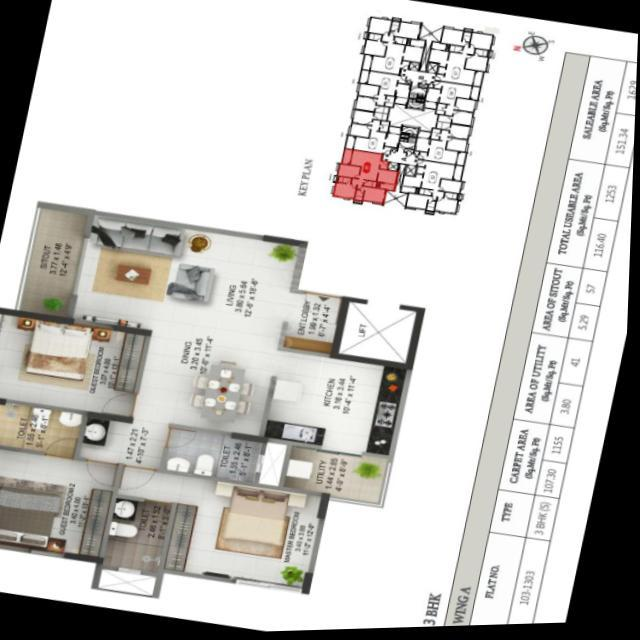Balcony-Sitout: (17, 200, 96, 324)
Bedroom: (0, 306, 154, 422), (0, 445, 130, 564)
Bedroom with Toilet: (102, 463, 333, 595)
Dining: (188, 351, 270, 436)
Enterance-Foyer: (281, 290, 351, 360)
Kitchen: (261, 348, 415, 460)
Living: (65, 208, 308, 353)
Toilet: (162, 423, 269, 486), (0, 398, 88, 460)
Utility: (282, 443, 397, 508)
